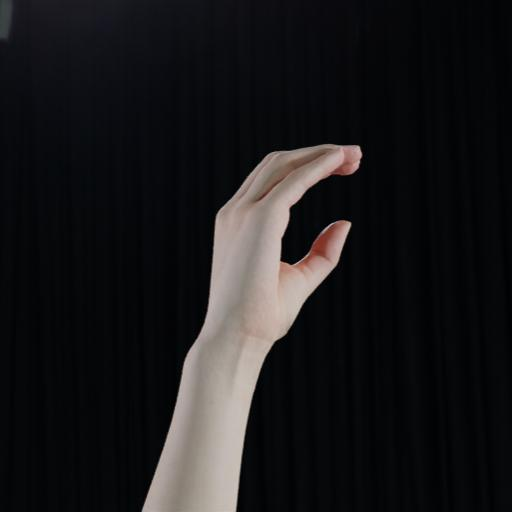C: (184, 117, 379, 343)
